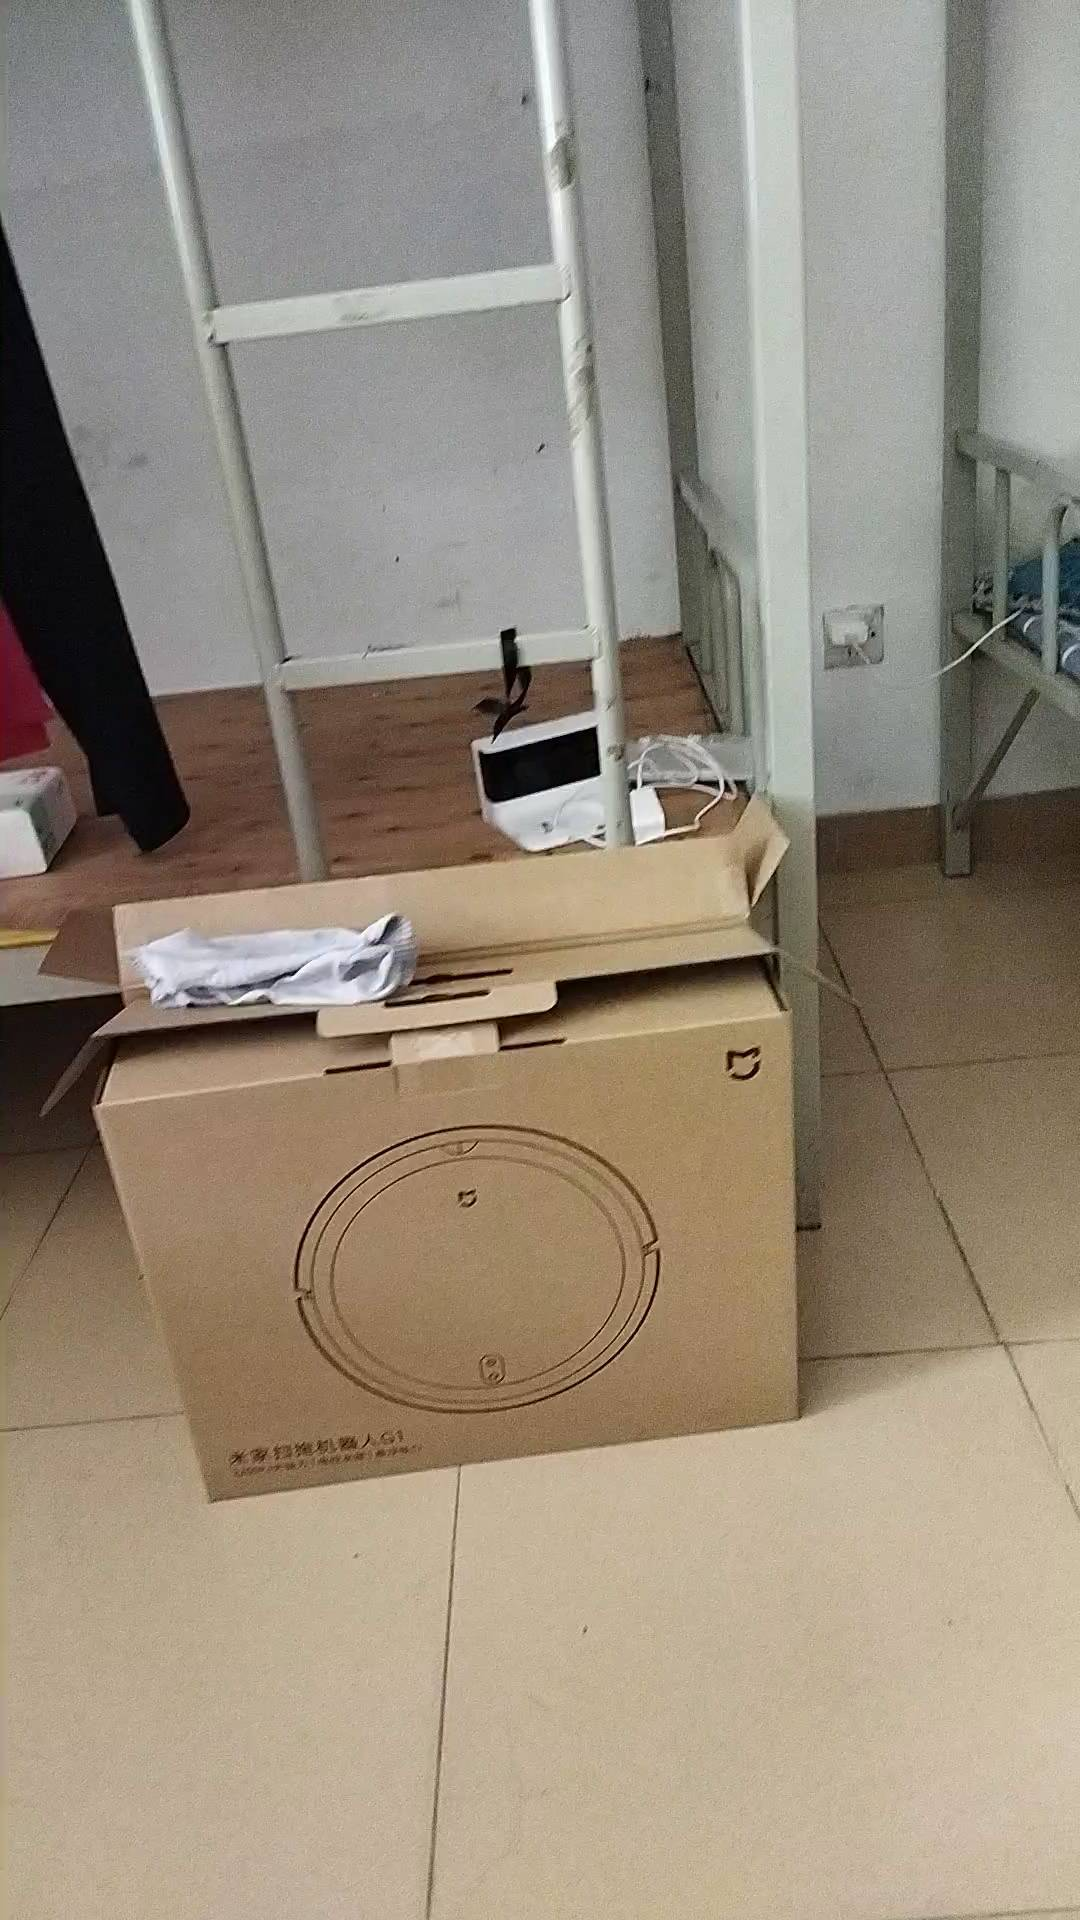recharge seat: (473, 711, 600, 847)
